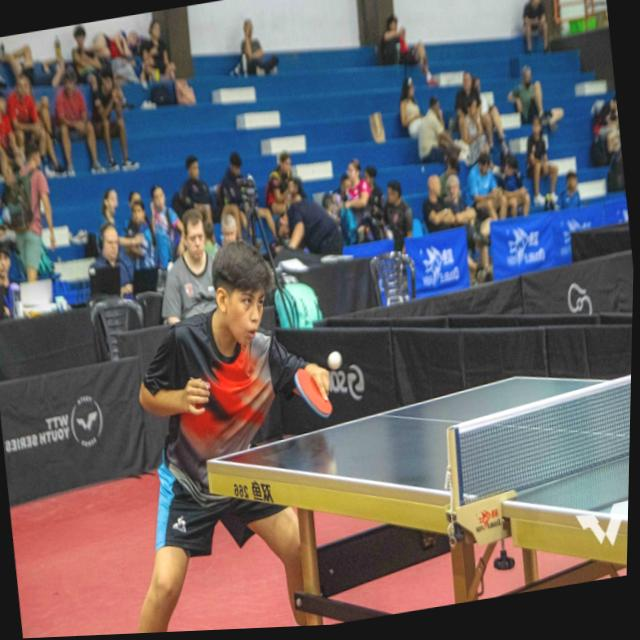TT Net: (444, 370, 631, 537)
TT Racket: (287, 362, 339, 425)
TT Table: (207, 377, 631, 520)
